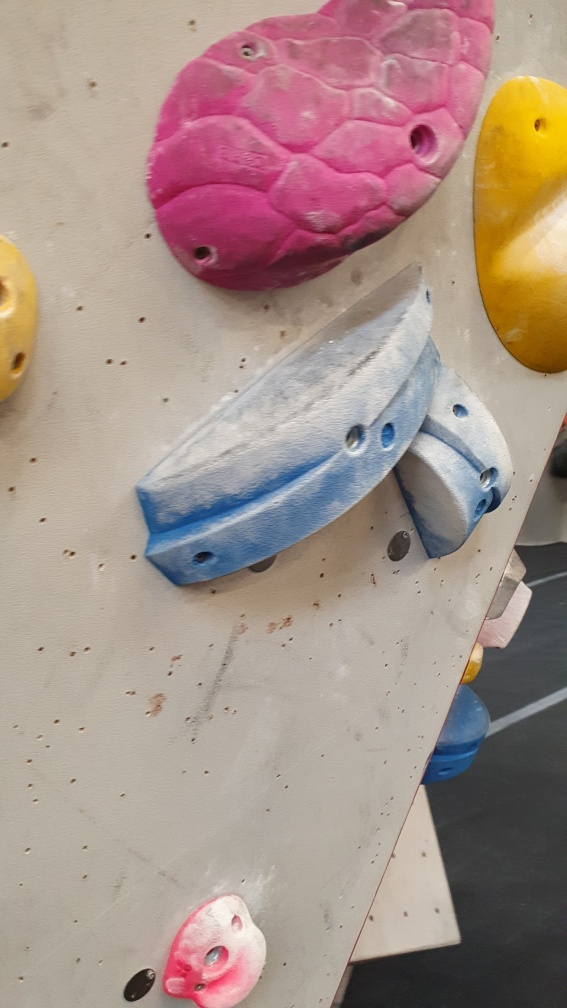Hand Start: (382, 525, 416, 567), (124, 967, 157, 1001)
Pinch: (136, 263, 444, 590), (392, 354, 514, 561), (420, 683, 492, 785)
